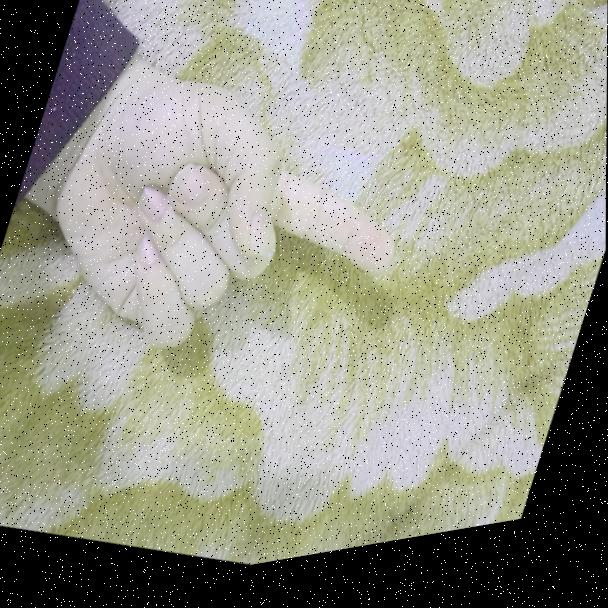one: (7, 22, 441, 458)
